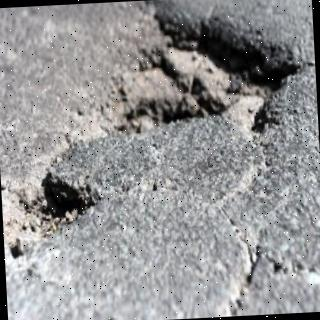pothole: (1, 10, 313, 270)
